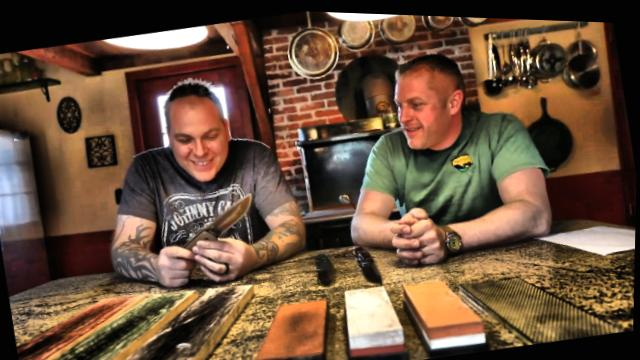knife: (164, 178, 269, 267)
